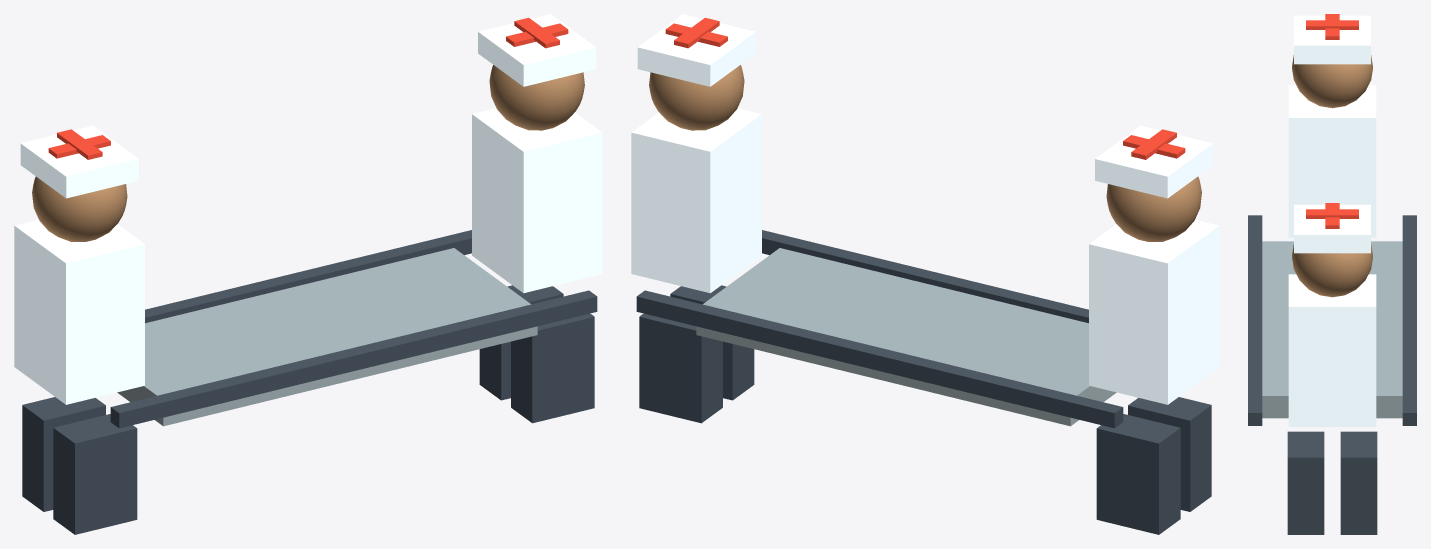
Rendered from medic.glb.
The picture shows the model from 3 angles, left to right: view 1: azimuth 30°, elevation 25°; view 2: azimuth 150°, elevation 25°; view 3: azimuth 270°, elevation 25°; orthographic projection. The views are drawn at different scales.
Parts seen in each view (by area): view 1: Stretcher, Medic tunic.001, Medic tunic, Stretcher handle, Medic boot, Medic boot.002, Medic cap, Medic cap.001, Stretcher handle.001, Medic boot.001, Medic head.001, Medic head (+1 smaller); view 2: Stretcher, Medic tunic.001, Medic tunic, Stretcher handle.001, Medic boot.001, Medic boot.003, Medic cap, Medic cap.001, Stretcher handle, Medic boot, Medic head.001, Medic head (+1 smaller); view 3: Medic tunic.001, Stretcher, Medic tunic, Medic boot.002, Medic boot.003, Stretcher handle, Stretcher handle.001, Medic cap, Medic cap.001, Medic head.001, Medic head, Red cross vertical (+3 smaller).
Part boxes in pixels (bbox=[...]): Stretcher: bbox=[117, 248, 537, 426]; Medic tunic.001: bbox=[472, 108, 602, 293]; Medic tunic: bbox=[14, 220, 144, 404]; Stretcher handle: bbox=[110, 290, 597, 428]; Medic boot: bbox=[53, 414, 137, 534]; Medic boot.002: bbox=[511, 313, 594, 423]; Medic cap: bbox=[20, 125, 138, 198]; Medic cap.001: bbox=[478, 14, 596, 86]; Stretcher handle.001: bbox=[145, 230, 471, 323]; Medic boot.001: bbox=[22, 397, 105, 511]; Medic head.001: bbox=[489, 65, 584, 130]; Medic head: bbox=[32, 176, 127, 241]; Stretcher: bbox=[696, 248, 1116, 426]; Medic tunic.001: bbox=[631, 108, 761, 293]; Medic tunic: bbox=[1089, 220, 1219, 404]; Stretcher handle.001: bbox=[636, 290, 1123, 428]; Medic boot.001: bbox=[1096, 414, 1180, 534]; Medic boot.003: bbox=[639, 313, 722, 423]; Medic cap: bbox=[1095, 125, 1213, 198]; Medic cap.001: bbox=[637, 14, 755, 86]; Stretcher handle: bbox=[762, 230, 1088, 323]; Medic boot: bbox=[1128, 397, 1211, 511]; Medic head.001: bbox=[649, 65, 744, 130]; Medic head: bbox=[1106, 176, 1201, 241]; Medic tunic.001: bbox=[1288, 274, 1376, 426]; Stretcher: bbox=[1262, 241, 1402, 418]; Medic tunic: bbox=[1288, 85, 1376, 237]; Medic boot.002: bbox=[1287, 431, 1324, 534]; Medic boot.003: bbox=[1340, 431, 1377, 534]; Stretcher handle: bbox=[1248, 215, 1262, 425]; Stretcher handle.001: bbox=[1402, 215, 1416, 425]; Medic cap: bbox=[1294, 15, 1370, 64]; Medic cap.001: bbox=[1294, 204, 1370, 253]; Medic head.001: bbox=[1292, 244, 1372, 297]; Medic head: bbox=[1292, 55, 1372, 108]; Red cross vertical: bbox=[1306, 20, 1358, 29].
Size of the model in its own units: 2.6 by 1.68 by 0.83.
